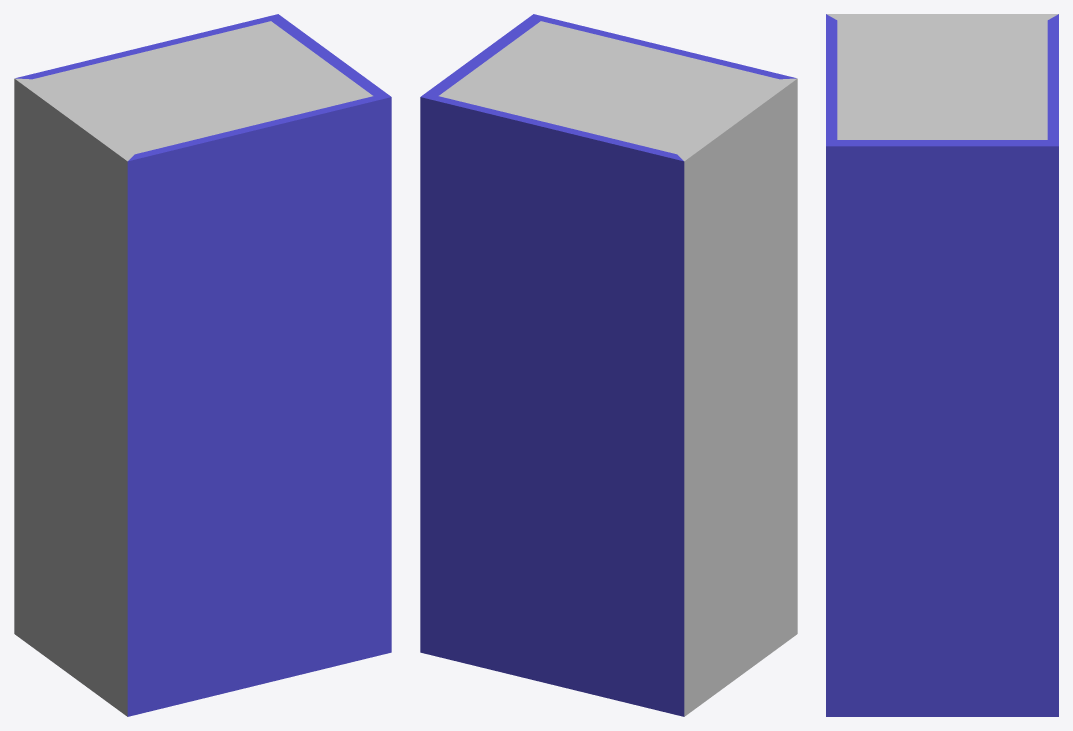
The model's file is Book.fbx.
3 renders of one model, left to right at view 1: azimuth 30°, elevation 25°; view 2: azimuth 150°, elevation 25°; view 3: azimuth 270°, elevation 25°, orthographic. The views are drawn at different scales.
Parts seen in each view (by area): view 1: Cube.001; view 2: Cube.001; view 3: Cube.001.
Part boxes in pixels (<box>): Cube.001: <box>14,14,391,716</box>; Cube.001: <box>420,14,797,716</box>; Cube.001: <box>826,14,1058,716</box>.
Size of the model in its own units: 21.8 by 43.83 by 16.22.
